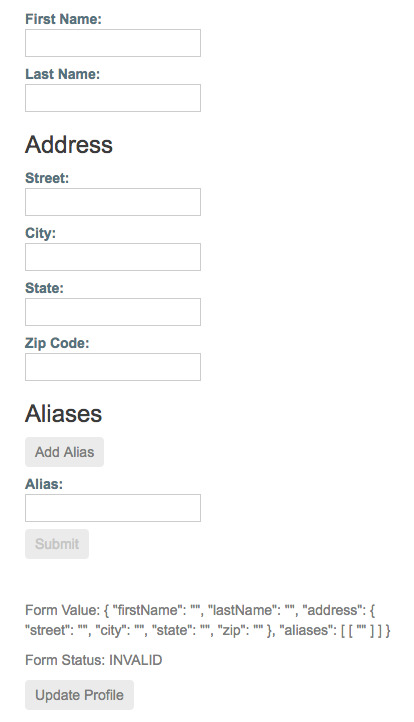_form_: (1, 1, 231, 408), (3, 332, 233, 722)
button: (22, 679, 137, 713), (22, 434, 108, 468), (22, 526, 91, 560)
field: (22, 185, 203, 218), (23, 493, 203, 526), (25, 240, 202, 273), (23, 351, 203, 383), (22, 27, 203, 58), (22, 297, 202, 327), (22, 83, 201, 113)
field_with_label: (19, 169, 206, 219), (21, 477, 204, 528), (23, 226, 205, 277), (19, 11, 205, 60), (19, 335, 204, 384), (19, 281, 205, 329), (19, 67, 204, 114)
